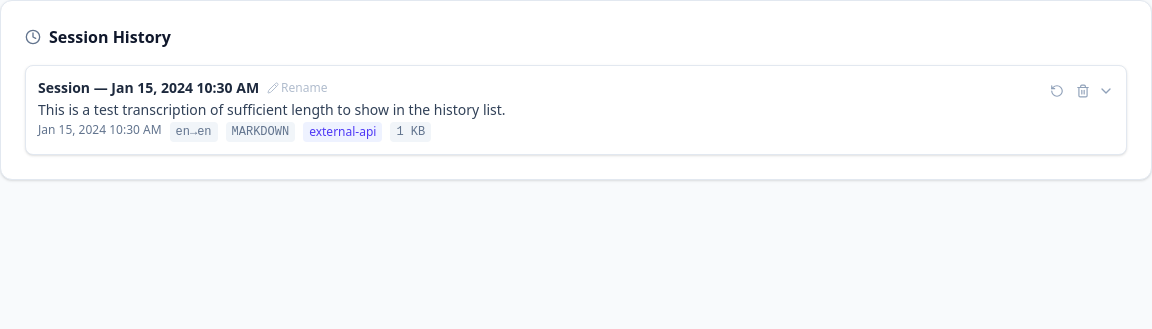
Scenario: SessionHistory › expands session to show generated doc when chevron clicked
Check: the list item with test id "session-row" is shown, box [25,65,1127,155]
Click the button named "expand".
click(1106, 91)  # box [1098,83,1114,99]
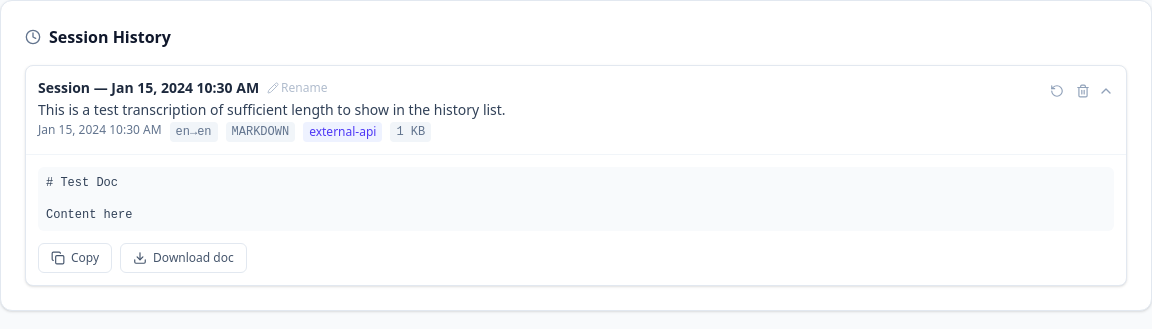
Check: the text "# Test Doc Content here" is shown, box [38,167,1114,231]
